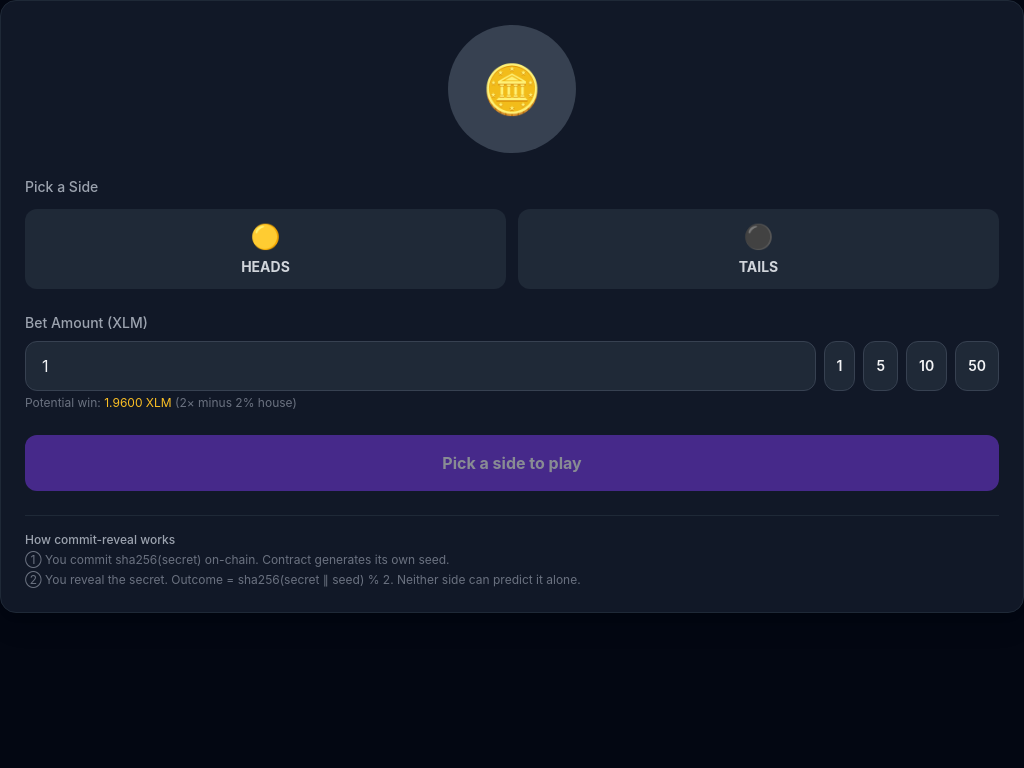
Test case: CoinFlipGame › TAILS button click selects tails
The width and height of the screenshot is (1024, 768).
Click the button "⚫ TAILS". click: coordinates (758, 249)
box: [518,209,999,289]
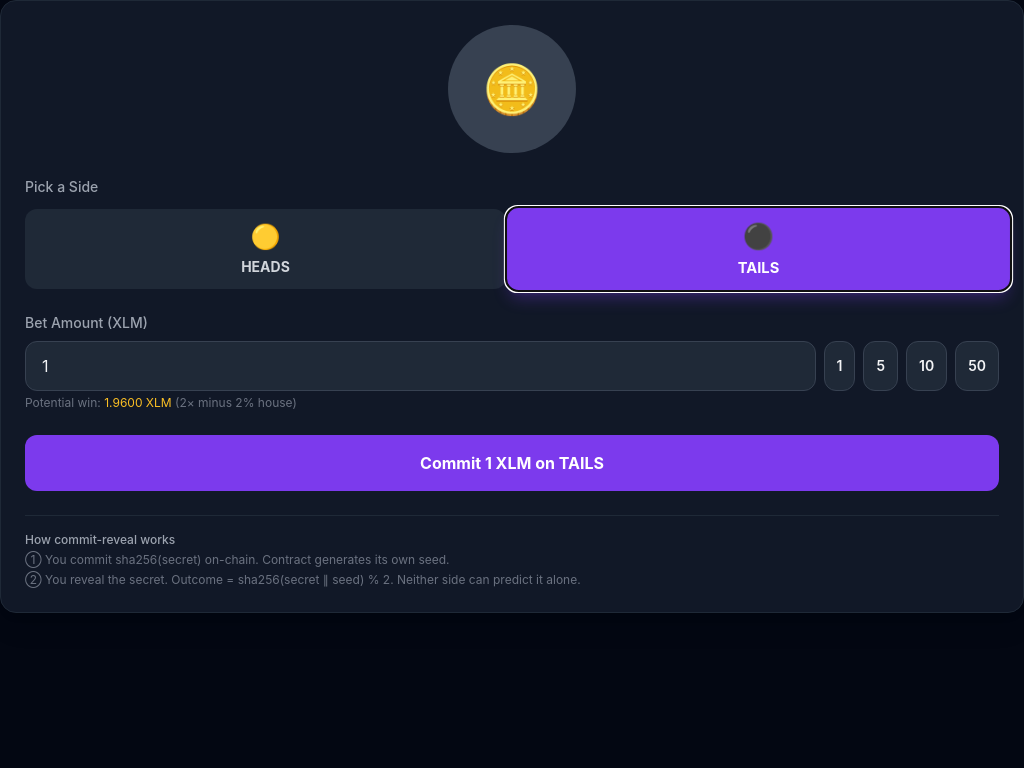
expect the button "Commit 1 XLM on TAILS" is shown: met, box [25,435,999,491]
